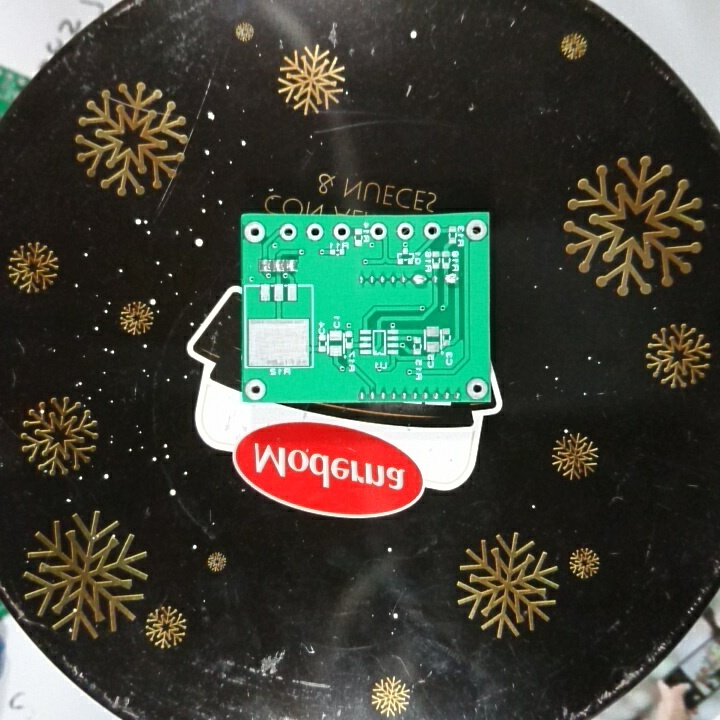F: (463, 376, 489, 400), (463, 217, 486, 242), (242, 221, 268, 243), (243, 378, 267, 400), (395, 220, 417, 242), (422, 220, 442, 241), (278, 221, 297, 243), (304, 222, 324, 241), (332, 222, 350, 241), (370, 223, 387, 243)
P: (410, 271, 428, 289), (442, 271, 461, 286)
